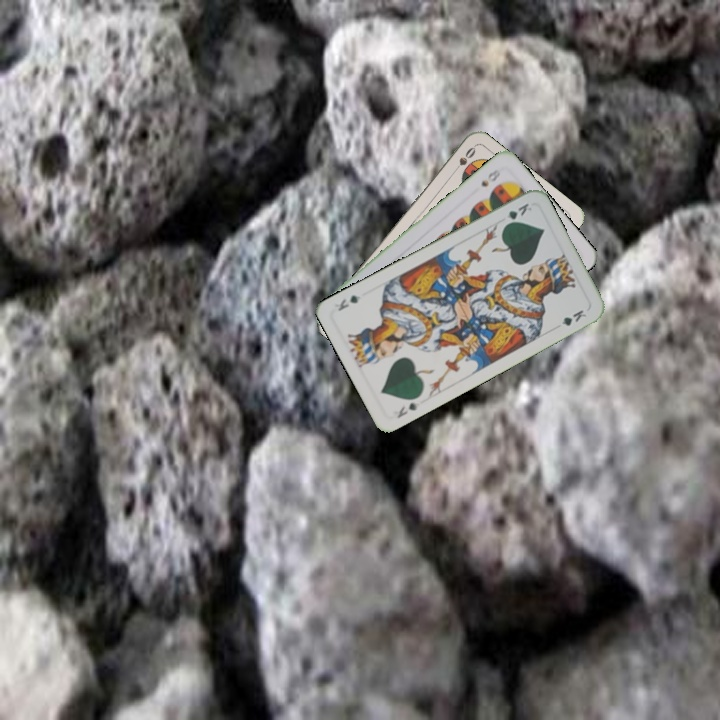GK: (500, 199, 534, 229), (393, 398, 420, 421)
S8: (477, 165, 503, 190)
SO: (448, 143, 478, 177)
